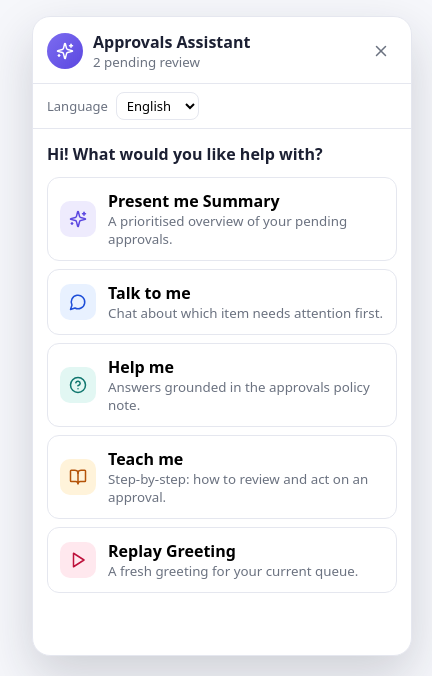
streaming state › renders the validated triage as an ordered list with titles
Click the button "Present me Summary".
click(222, 219)  # box [47,177,397,261]
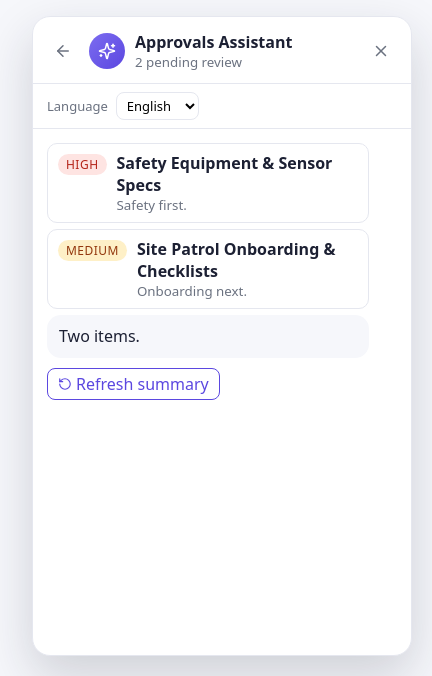
Expected: the list item "high Safety Equipment & Sensor Specs Safety first." is shown, [47,143,369,223]
Expected: the list item "medium Site Patrol Onboarding & Checklists Onboarding next." is shown, [47,229,369,309]
